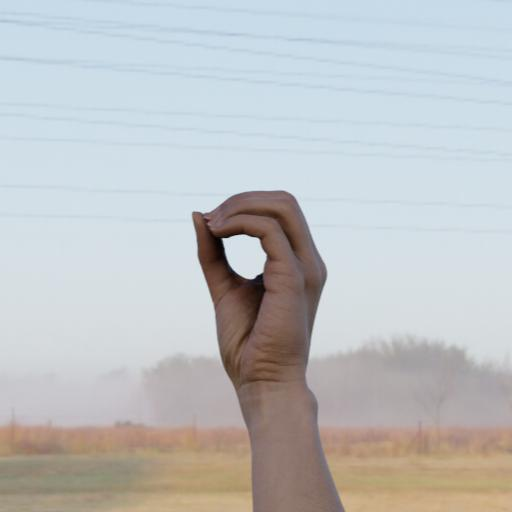O: (182, 180, 341, 421)
